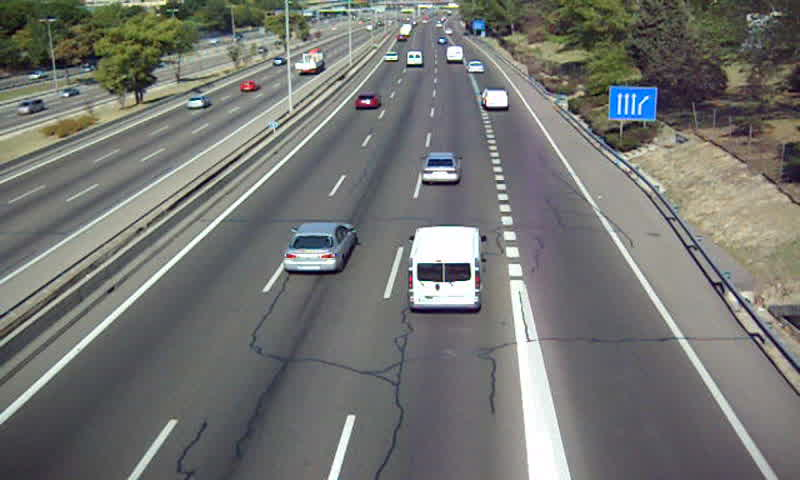car: (282, 222, 355, 274), (420, 152, 461, 184), (355, 92, 382, 108), (468, 60, 486, 74)
van: (408, 226, 482, 310), (480, 88, 508, 112), (445, 46, 464, 64), (405, 50, 423, 67)
